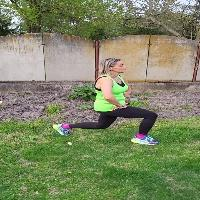lunges: (47, 46, 164, 157)
